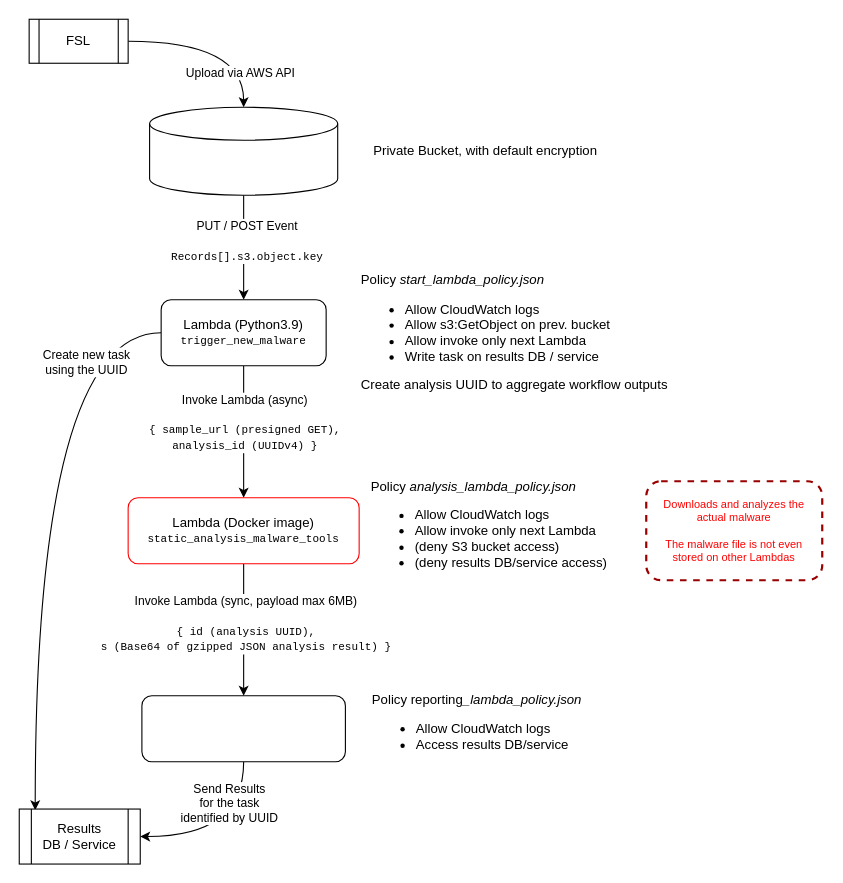
Image size: 843x883. Some labels were removed from this diagram. Each missing label, with the box of its shape:
Lambda (Python3.9) static_analysis_reporting: (141, 695, 345, 762)
Private S3 Bucket static-analysis-malware: (148, 106, 338, 195)
